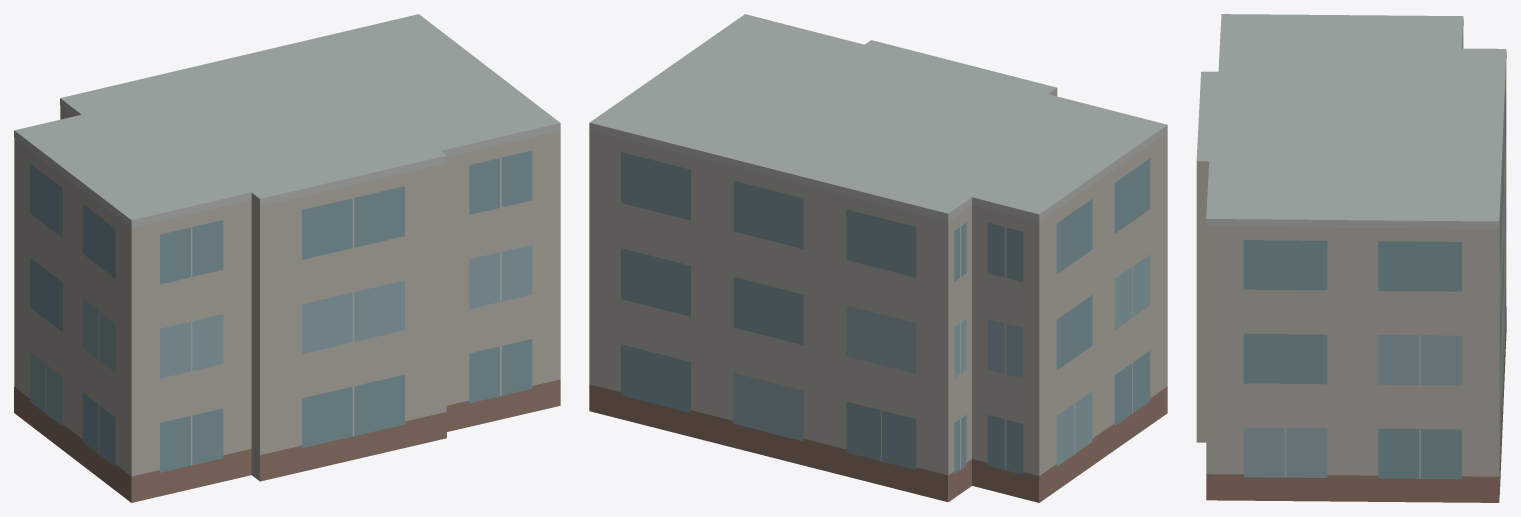
The model's file is survey-upis-32781373.glb.
3 renders of one model, left to right at view 1: azimuth 30°, elevation 25°; view 2: azimuth 150°, elevation 25°; view 3: azimuth 270°, elevation 25°, orthographic. The views are drawn at different scales.
Visible parts, largest first — view 1: survey-upis-32781373.tmp; view 2: survey-upis-32781373.tmp; view 3: survey-upis-32781373.tmp.
Part boxes in pixels (x1,y1,x2,y2): survey-upis-32781373.tmp: [14, 14, 560, 502]; survey-upis-32781373.tmp: [589, 14, 1167, 502]; survey-upis-32781373.tmp: [1196, 14, 1506, 502].
Bounding box in the file's own units: 14.48 × 9.15 × 9.14.
